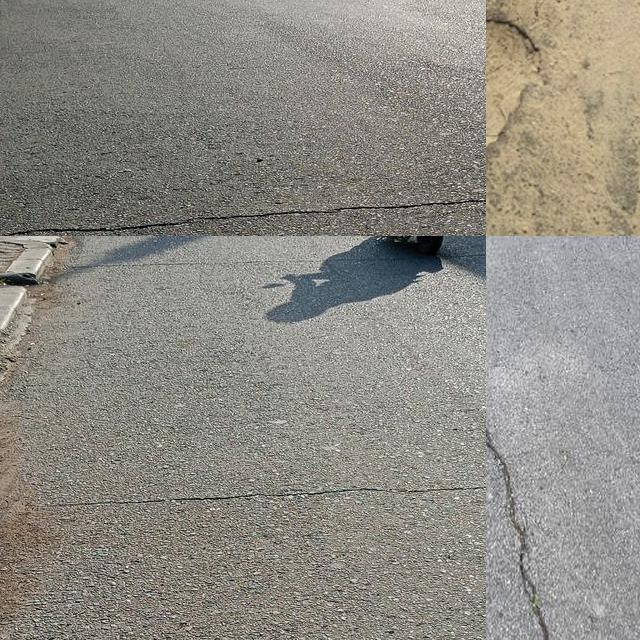Lubang: (486, 15, 543, 151)
Melintang: (0, 182, 486, 236), (0, 470, 486, 521)
Memanjang: (486, 377, 571, 640)
